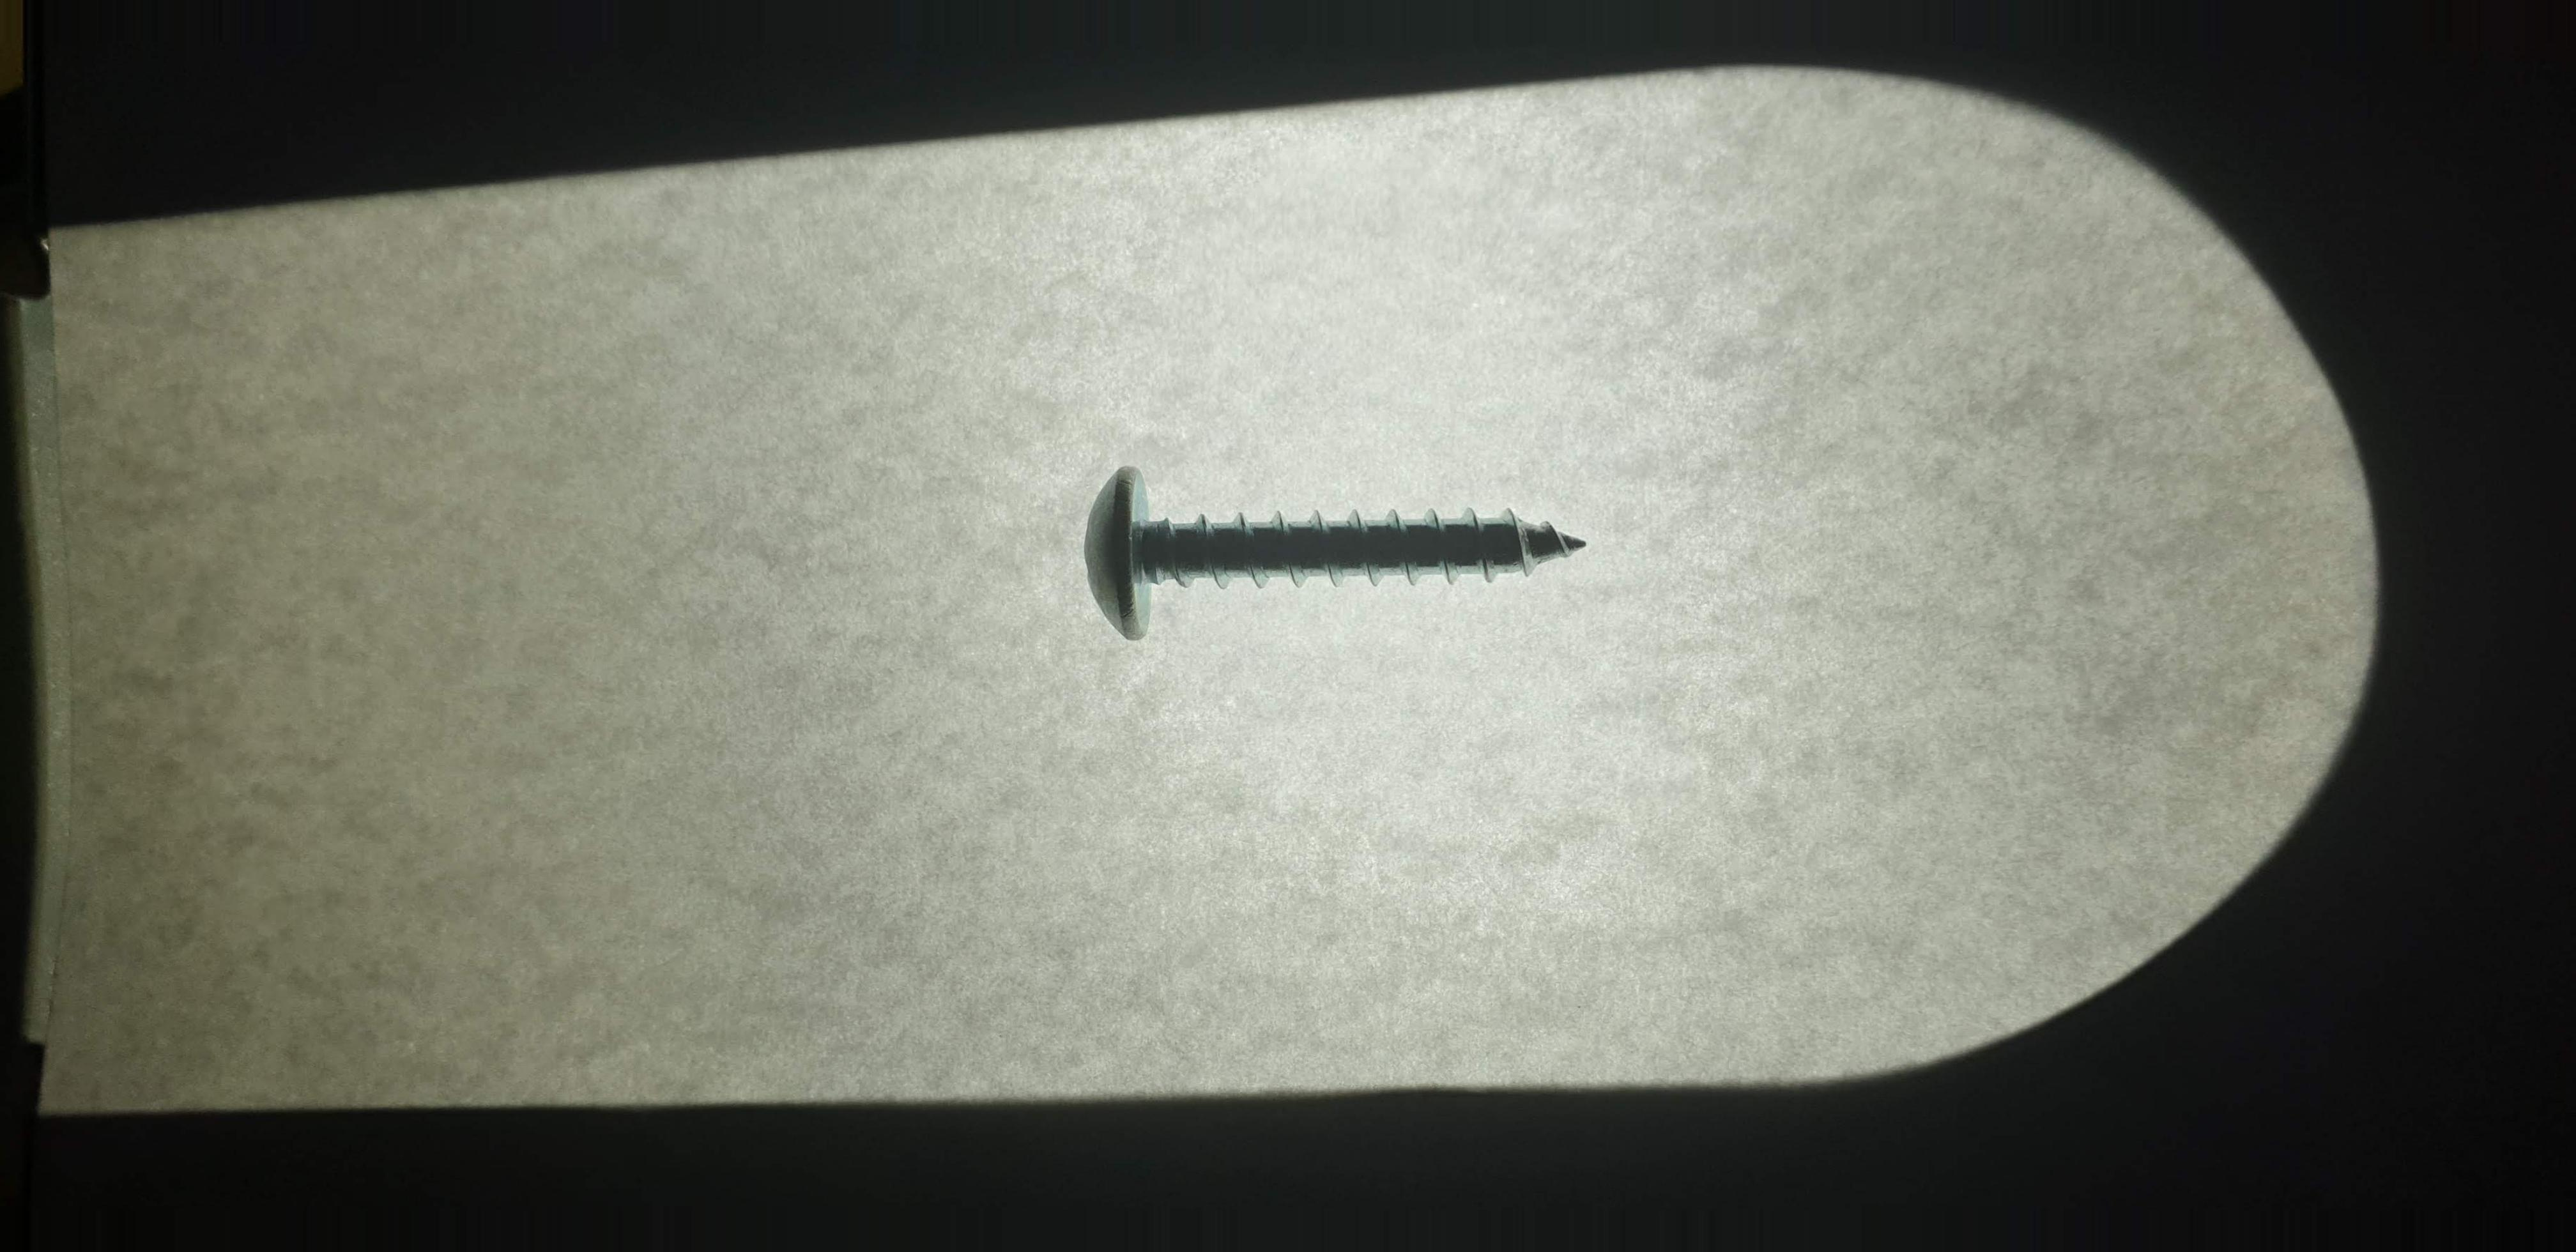S002: (1046, 422, 1636, 662)
